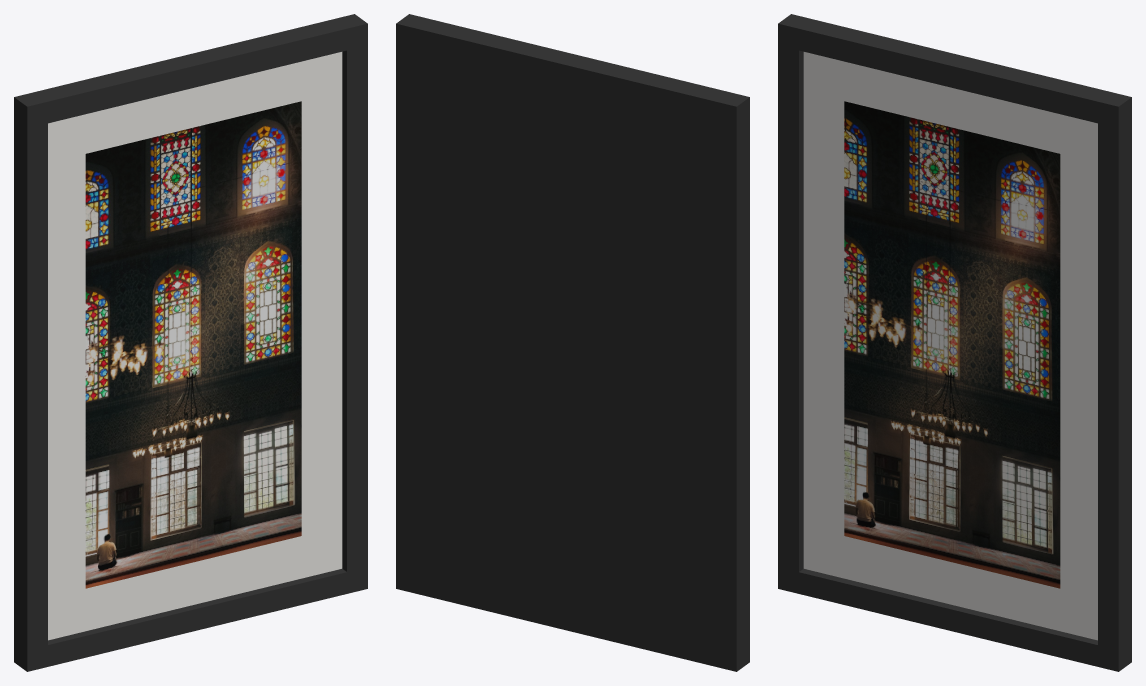
The model's file is bonen-40.gltf.
The picture shows the model from 3 angles, left to right: view 1: azimuth 30°, elevation 25°; view 2: azimuth 150°, elevation 25°; view 3: azimuth 330°, elevation 25°; orthographic projection.
Parts seen in each view (by area): view 1: tavla; view 2: tavla; view 3: tavla.
Part boxes in pixels (x1,y1,x2,y2): tavla: (14,14,367,671); tavla: (396,14,749,671); tavla: (778,14,1131,671).
Bounding box in the file's own units: 0.328 × 0.52 × 0.022.
3 materials, 1 textured.
